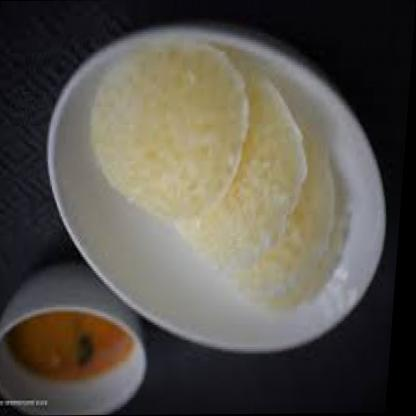idli: (88, 43, 254, 222), (172, 63, 314, 270), (227, 120, 356, 315)
